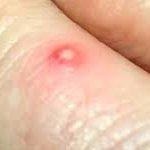Ants: (48, 44, 84, 71)
